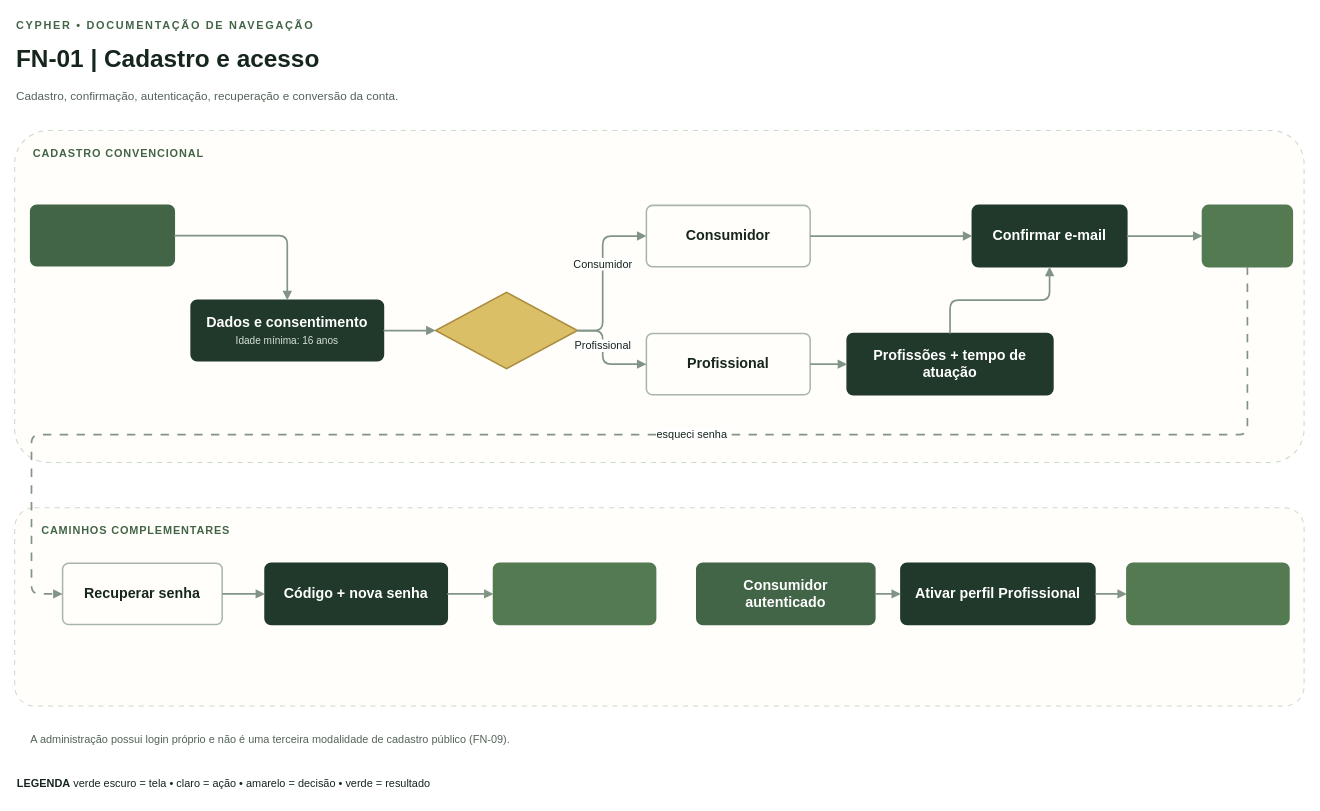
The diagram is 1320 pixels wide and 811 high, and some of its shapes have lost their labels. Each missing label, with the centre of its shape:
"Cadastro" belongs at [102,235].
"Escolher profissões Tempo por atuação" belongs at [1207,593].
"Login" belongs at [1247,235].
"Tipo de conta?" belongs at [506,330].
"Voltar ao login" belongs at [574,593].
